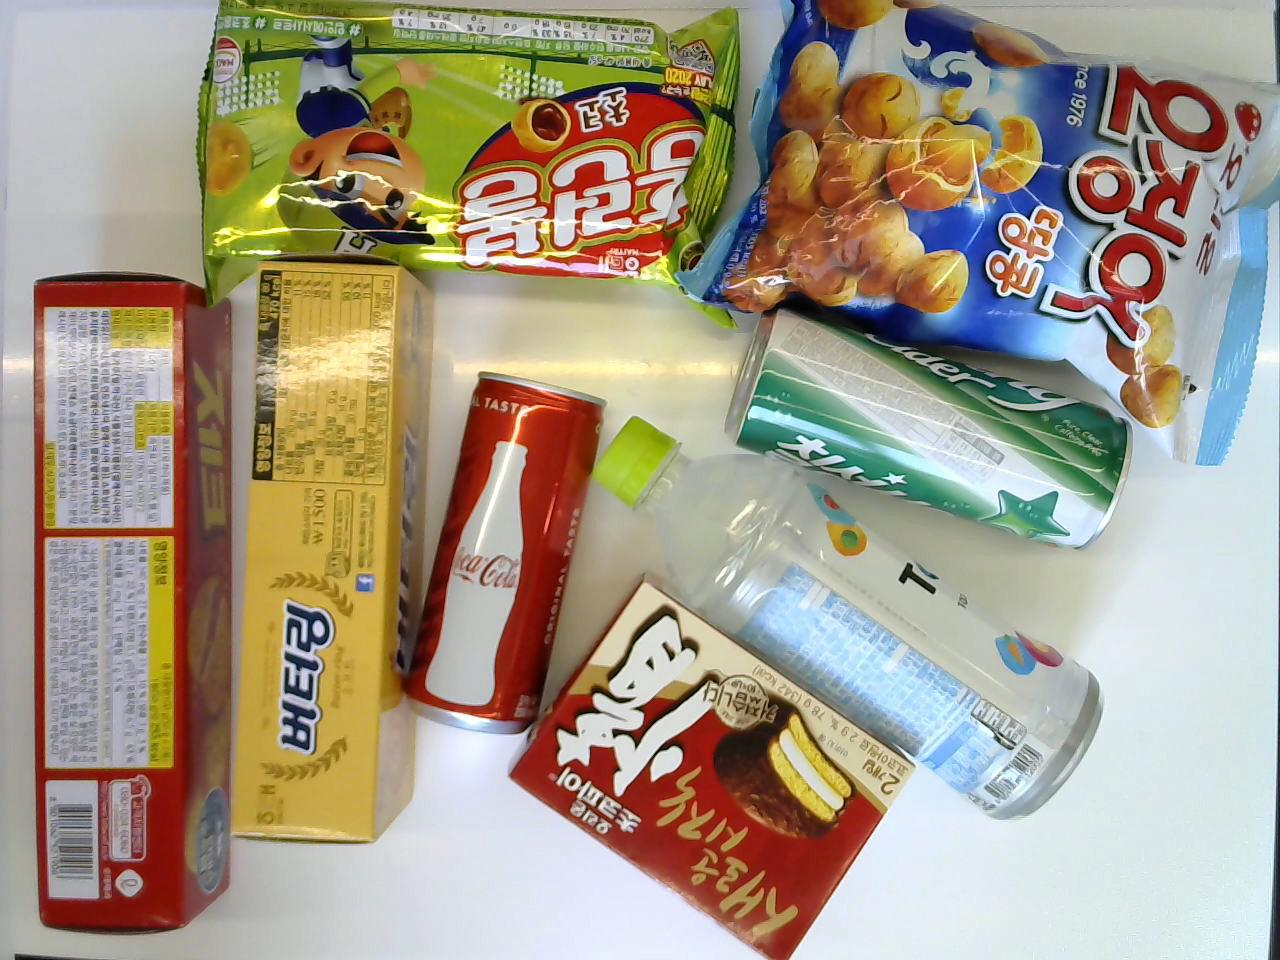buttering: (229, 257, 436, 848)
chocopie: (502, 578, 914, 960)
cidar: (725, 307, 1133, 552)
coke: (402, 365, 607, 736)
homerunball: (191, 0, 742, 333)
squid_peanut: (677, 0, 1276, 469)
toreta: (590, 413, 1103, 823)
zec: (30, 266, 228, 936)
